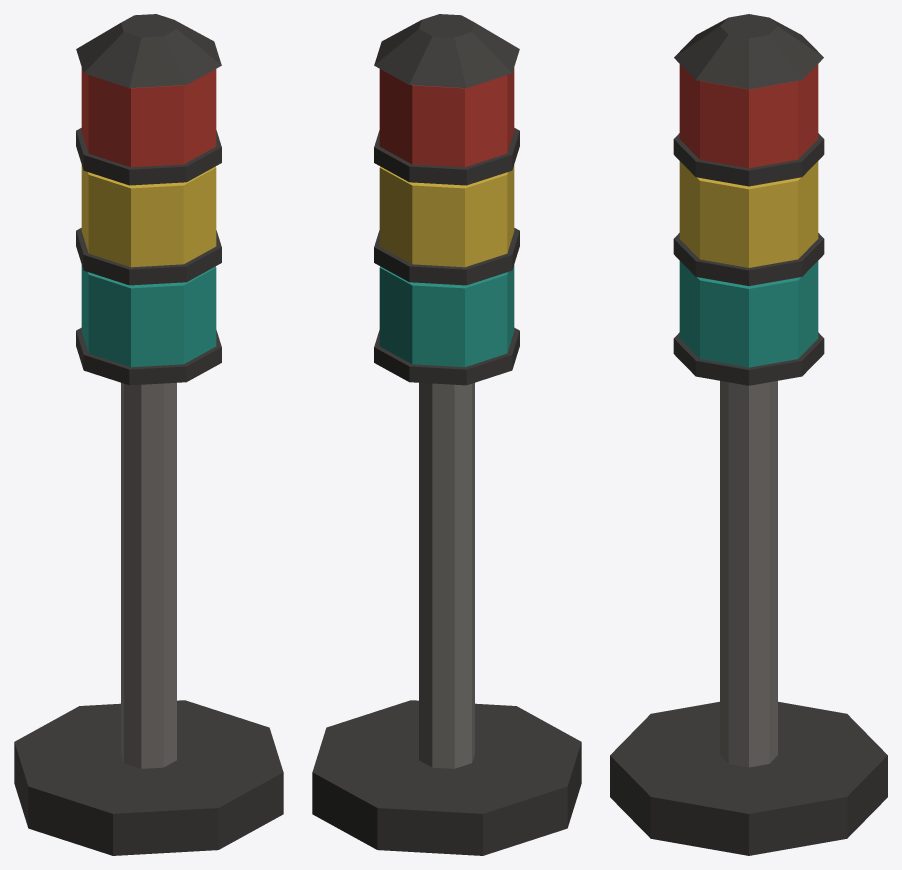
The model's file is beacon.fbx.
3 views of the same model, side by side, from view 1: azimuth 30°, elevation 25°; view 2: azimuth 150°, elevation 25°; view 3: azimuth 270°, elevation 25° (orthographic).
Visible parts, largest first — view 1: beacon; view 2: beacon; view 3: beacon.
Boxes of the visible parts, left/top/right/bottom form: beacon: left=14, top=14, right=283, bottom=855; beacon: left=312, top=14, right=581, bottom=855; beacon: left=610, top=14, right=887, bottom=855.
Size of the model in its own units: 1.44 by 4.41 by 1.44.
